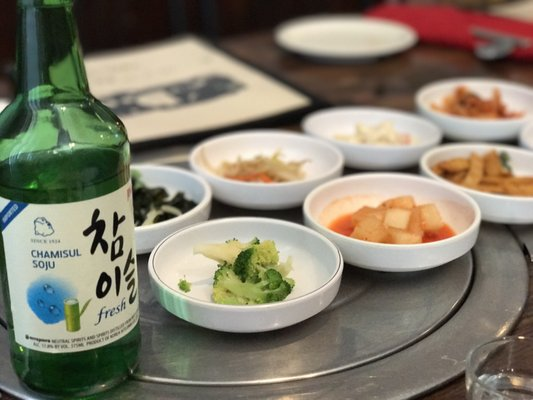curry: (212, 240, 293, 305)
pizza: (464, 335, 533, 400)
sushi: (147, 215, 344, 334), (302, 172, 482, 273), (189, 130, 346, 211), (419, 142, 533, 225), (301, 106, 443, 171), (414, 77, 532, 143), (131, 164, 213, 256)
